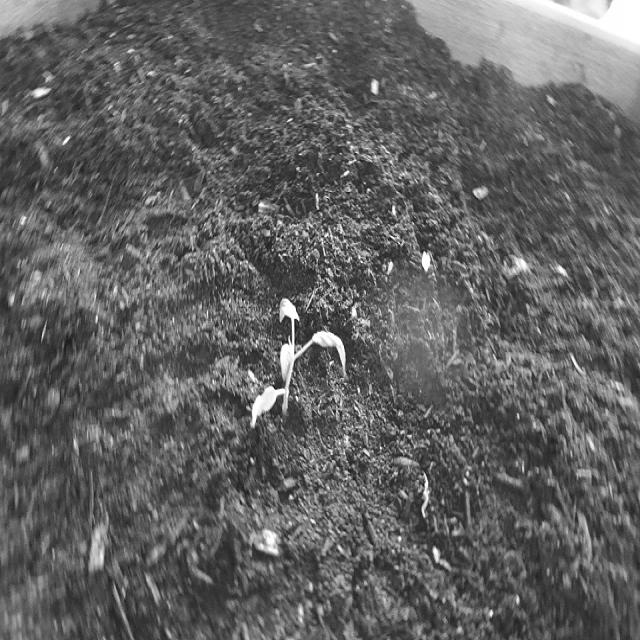Healthy: (243, 273, 354, 442)
